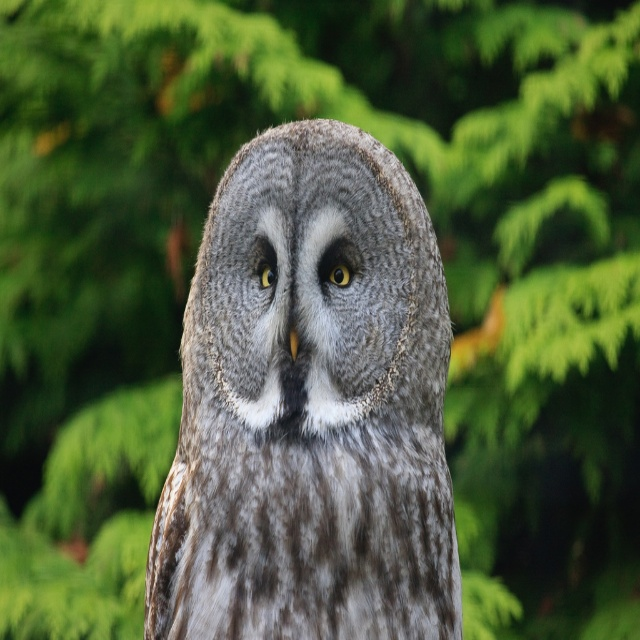Owl: (143, 115, 463, 639)
